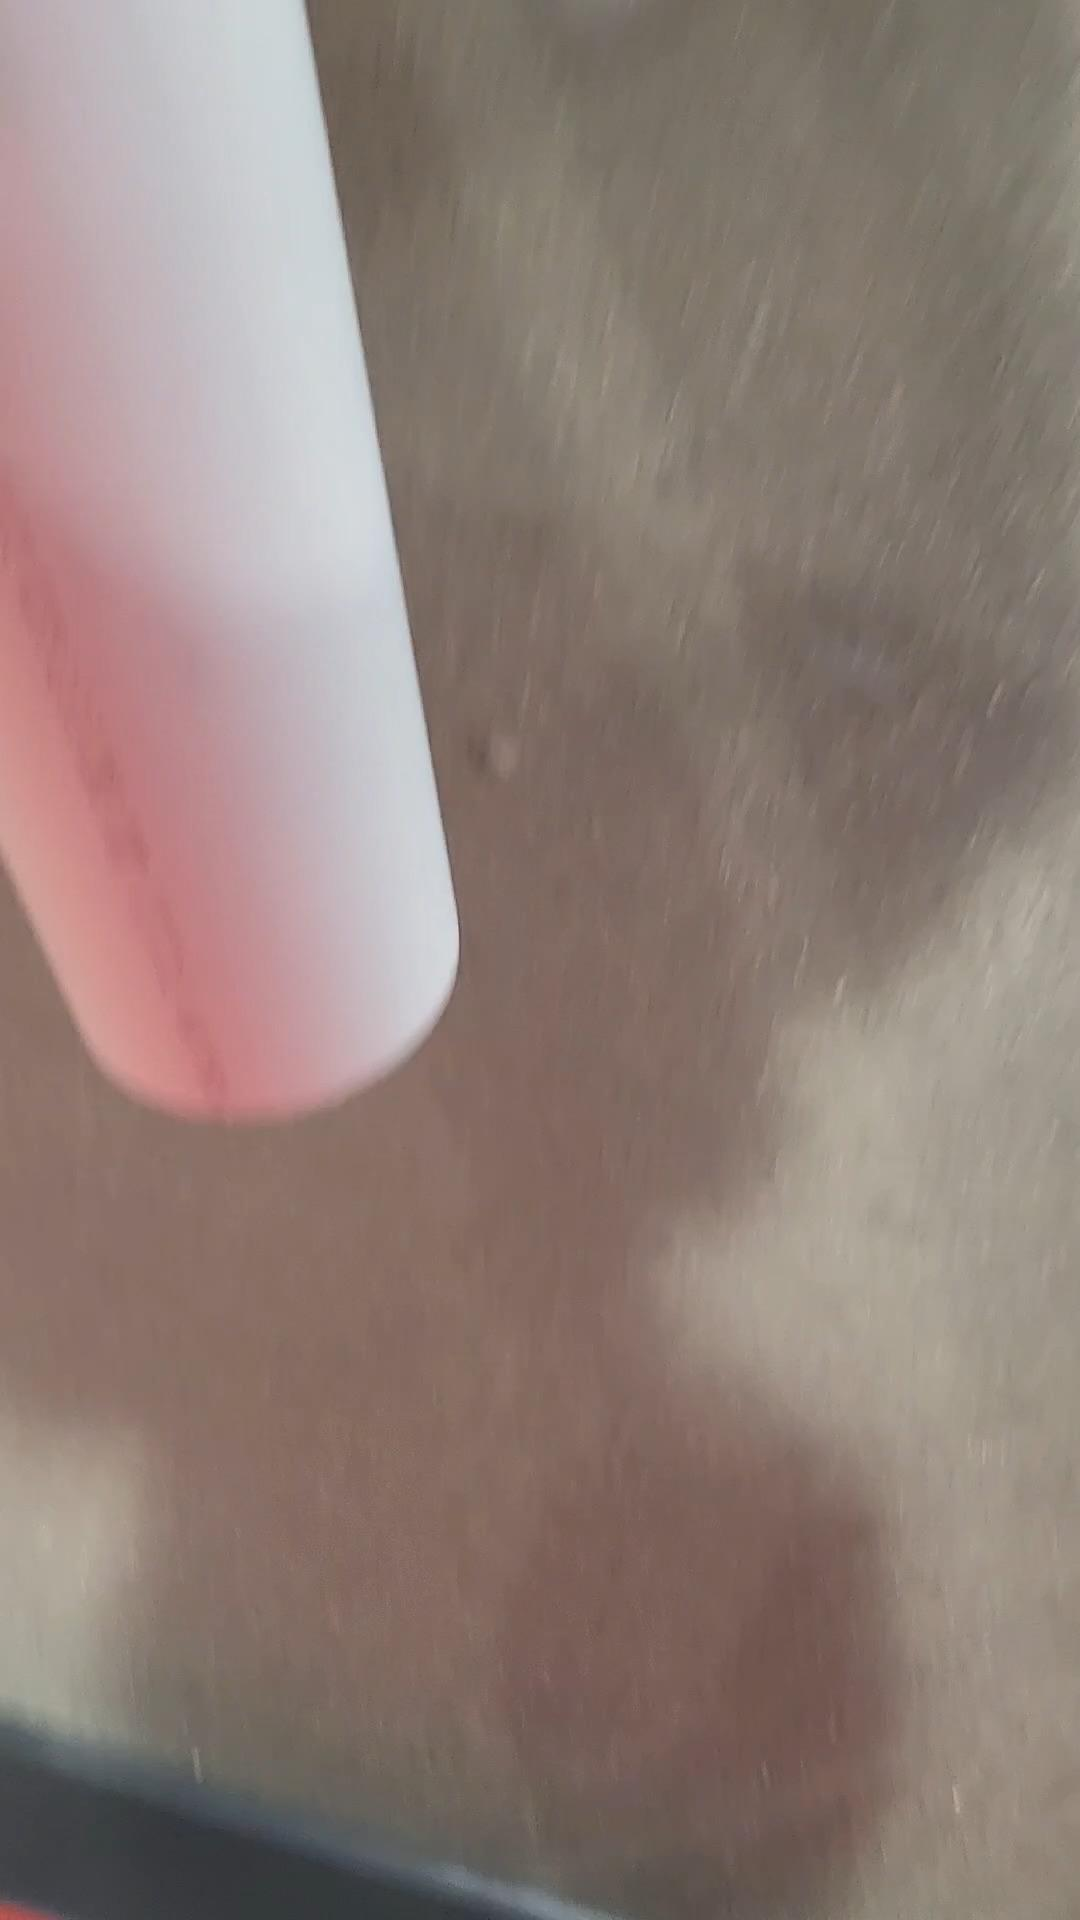coral: (0, 0, 460, 1135)
